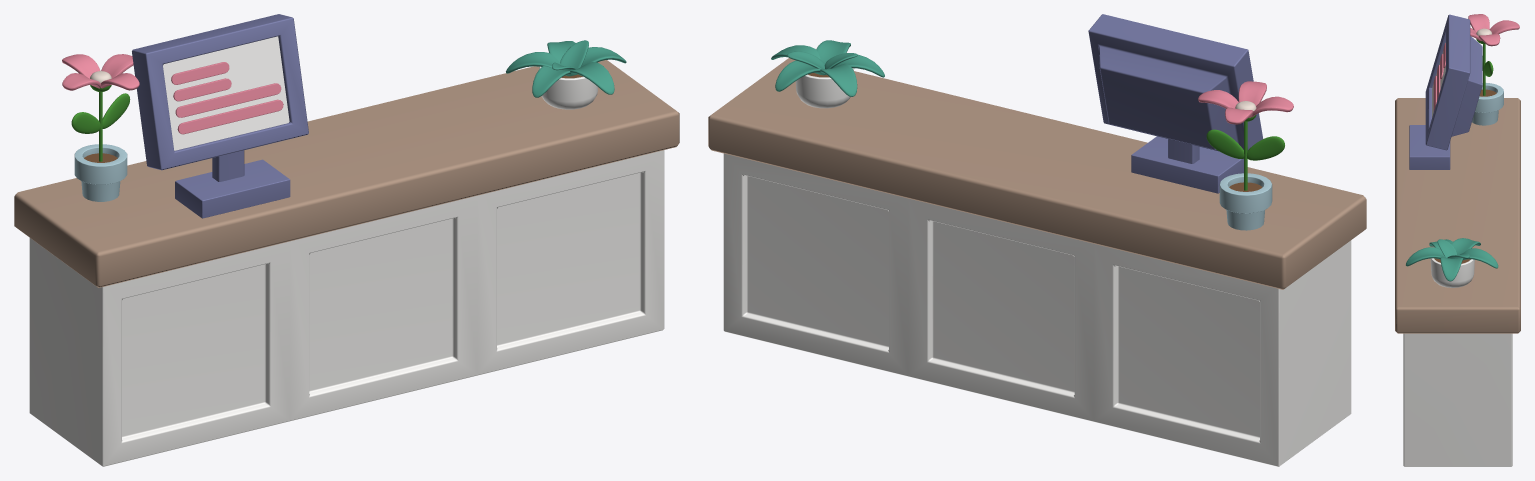
The model's file is Interiors.fbx.
3 views of the same model, side by side, from view 1: azimuth 30°, elevation 25°; view 2: azimuth 150°, elevation 25°; view 3: azimuth 270°, elevation 25° (orthographic). The views are drawn at different scales.
Visible parts, largest first — view 1: Cafe_Cabinet_1, Cafe_Cafe_Cash_Register_1, Flower, Cafe_Plant_1; view 2: Cafe_Cabinet_1, Cafe_Cafe_Cash_Register_1, Flower, Cafe_Plant_1; view 3: Cafe_Cabinet_1, Cafe_Cafe_Cash_Register_1, Cafe_Plant_1, Flower.
Part boxes in pixels (bbox=[...]): Cafe_Cabinet_1: bbox=[14, 60, 679, 466]; Cafe_Cafe_Cash_Register_1: bbox=[132, 14, 308, 218]; Flower: bbox=[62, 54, 139, 201]; Cafe_Plant_1: bbox=[506, 40, 626, 109]; Cafe_Cabinet_1: bbox=[708, 58, 1366, 466]; Cafe_Cafe_Cash_Register_1: bbox=[1088, 14, 1263, 193]; Flower: bbox=[1198, 81, 1293, 230]; Cafe_Plant_1: bbox=[771, 40, 884, 108]; Cafe_Cabinet_1: bbox=[1395, 98, 1520, 466]; Cafe_Cafe_Cash_Register_1: bbox=[1409, 14, 1482, 169]; Cafe_Plant_1: bbox=[1406, 238, 1498, 287]; Flower: bbox=[1468, 14, 1519, 125].
Size of the model in its own units: 272 by 166 by 68.42.
2 materials, 2 textured.
